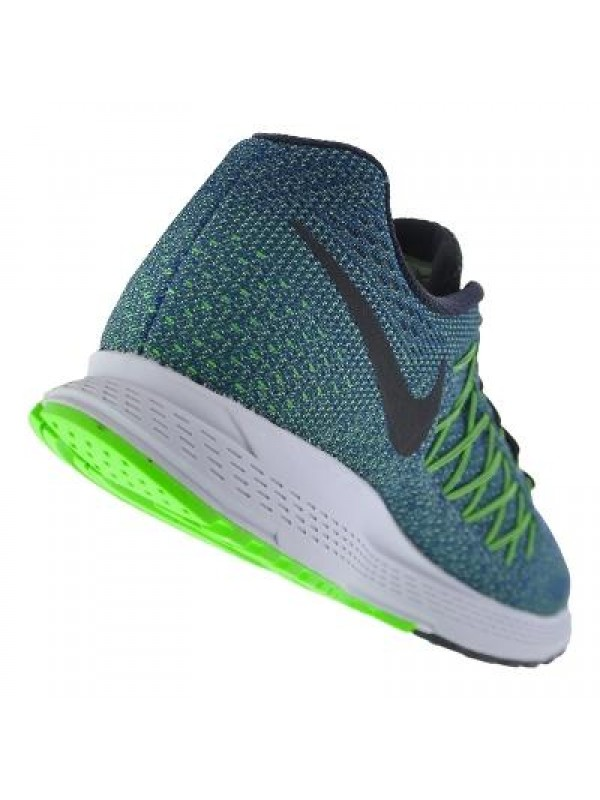nike: (291, 217, 457, 463)
